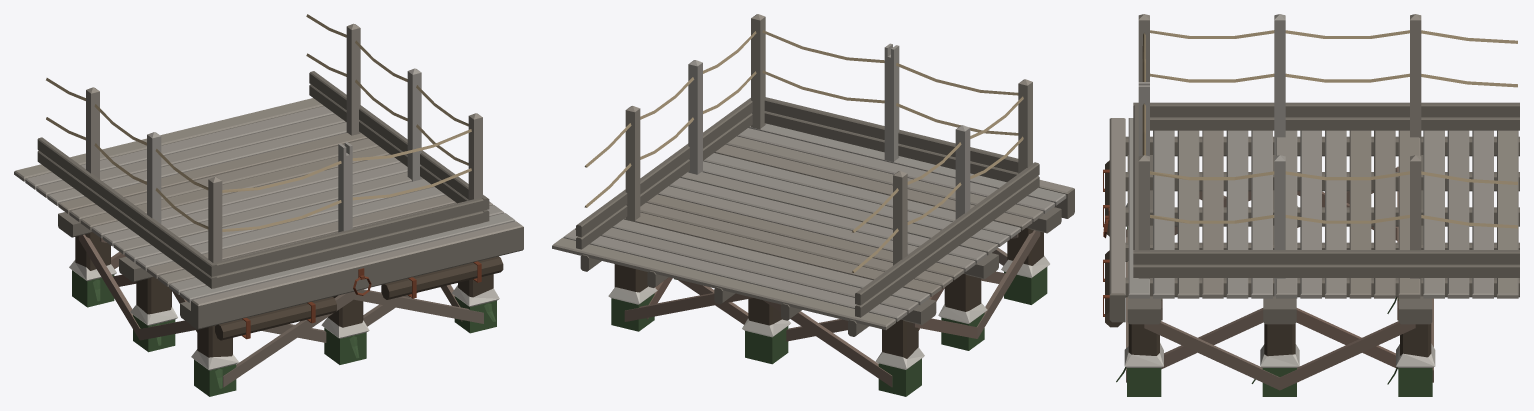
File: pier-head-platform-63662b.glb
The picture shows the model from 3 angles, left to right: view 1: azimuth 30°, elevation 25°; view 2: azimuth 150°, elevation 25°; view 3: azimuth 270°, elevation 25°; orthographic projection. The views are drawn at different scales.
Parts seen in each view (by area): view 1: pier-head-platform-63662b; view 2: pier-head-platform-63662b; view 3: pier-head-platform-63662b.
Boxes of the visible parts, box(x1,y1,x2,y2) form: pier-head-platform-63662b: box(14, 14, 523, 396); pier-head-platform-63662b: box(552, 14, 1074, 396); pier-head-platform-63662b: box(1103, 14, 1519, 396).
Bounding box in the file's own units: 4 × 2.48 × 3.99.
